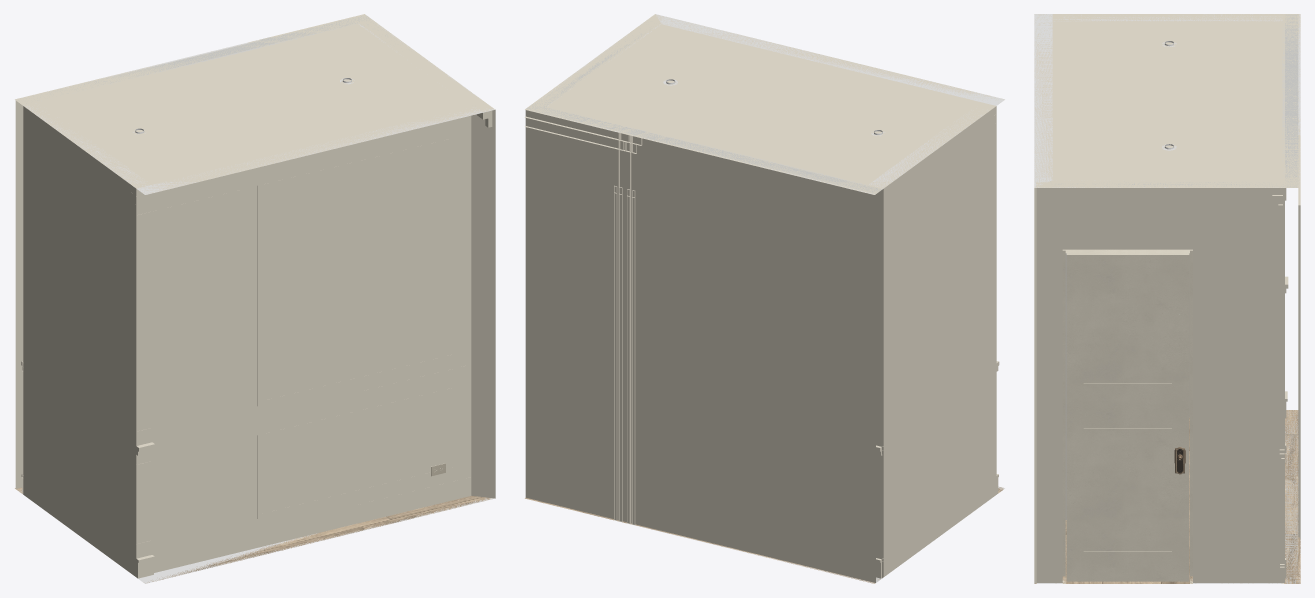
The model's file is upstairs-closet-east-626451d3eaa9.glb.
The picture shows the model from 3 angles, left to right: view 1: azimuth 30°, elevation 25°; view 2: azimuth 150°, elevation 25°; view 3: azimuth 270°, elevation 25°; orthographic projection.
Parts seen in each view (by area): view 1: upstairs-closet-east-6e269356ae8bfd70, upstairs-closet-east-af27112094daa34f, upstairs-closet-east-9d91b47435c6fb33, upstairs-closet-east-eb02897c2e79e2b1, upstairs-closet-east-1e72e6a7b41a2abd, upstairs-closet-east-23111371382874c8, upstairs-closet-east-eee6b1654fa02f80, upstairs-closet-east-2575515a05775d9e, upstairs-closet-east-414385708a06acff, upstairs-closet-east-3b3c25625ac8bb9a, upstairs-closet-east-1e3385c37a14aaf6, upstairs-closet-east-a5ac74805be43788; view 2: upstairs-closet-east-eb02897c2e79e2b1, upstairs-closet-east-af27112094daa34f, upstairs-closet-east-9d91b47435c6fb33, upstairs-closet-east-6e269356ae8bfd70, upstairs-closet-east-64efeecf845bccca, upstairs-closet-east-4f926054fd5f2d50, upstairs-closet-east-ed88f5d795cf56b6, upstairs-closet-east-dacde169422abe77, upstairs-closet-east-d84e51967c6a028c, upstairs-closet-east-23111371382874c8, upstairs-closet-east-3b3c25625ac8bb9a, upstairs-closet-east-e2e3a4ca5a8c504a; view 3: upstairs-closet-east-95684fa6df9df9bf, upstairs-closet-east-9d91b47435c6fb33, upstairs-closet-east-c33a54857fb1d4db, upstairs-closet-east-eb02897c2e79e2b1, upstairs-closet-east-6e269356ae8bfd70, upstairs-closet-east-2575515a05775d9e, upstairs-closet-east-664af2d0241557dd, upstairs-closet-east-3b3c25625ac8bb9a, upstairs-closet-east-af27112094daa34f, upstairs-closet-east-e2e3a4ca5a8c504a, upstairs-closet-east-4f926054fd5f2d50, upstairs-closet-east-23111371382874c8 (+1 smaller).
Part boxes in pixels (x1,y1,x2,y2): upstairs-closet-east-6e269356ae8bfd70: (136,107,495,583); upstairs-closet-east-af27112094daa34f: (23,105,147,576); upstairs-closet-east-9d91b47435c6fb33: (15,14,494,194); upstairs-closet-east-eb02897c2e79e2b1: (15,15,371,493); upstairs-closet-east-1e72e6a7b41a2abd: (257,137,456,406); upstairs-closet-east-23111371382874c8: (132,115,471,205); upstairs-closet-east-eee6b1654fa02f80: (257,387,456,518); upstairs-closet-east-2575515a05775d9e: (15,487,491,582); upstairs-closet-east-414385708a06acff: (148,477,471,555); upstairs-closet-east-3b3c25625ac8bb9a: (362,20,492,127); upstairs-closet-east-1e3385c37a14aaf6: (143,364,471,444); upstairs-closet-east-a5ac74805be43788: (136,189,243,435); upstairs-closet-east-eb02897c2e79e2b1: (525,104,883,583); upstairs-closet-east-af27112094daa34f: (869,106,996,576); upstairs-closet-east-9d91b47435c6fb33: (525,14,1004,194); upstairs-closet-east-6e269356ae8bfd70: (655,14,1004,490); upstairs-closet-east-64efeecf845bccca: (618,132,631,523); upstairs-closet-east-4f926054fd5f2d50: (614,185,617,520); upstairs-closet-east-ed88f5d795cf56b6: (619,187,622,522); upstairs-closet-east-dacde169422abe77: (632,190,635,525); upstairs-closet-east-d84e51967c6a028c: (627,189,629,523); upstairs-closet-east-23111371382874c8: (657,27,995,115); upstairs-closet-east-3b3c25625ac8bb9a: (535,15,664,105); upstairs-closet-east-e2e3a4ca5a8c504a: (860,102,977,184); upstairs-closet-east-95684fa6df9df9bf: (1036,180,1283,583); upstairs-closet-east-9d91b47435c6fb33: (1034,14,1300,187); upstairs-closet-east-c33a54857fb1d4db: (1066,253,1189,581); upstairs-closet-east-eb02897c2e79e2b1: (1282,14,1300,583); upstairs-closet-east-6e269356ae8bfd70: (1034,14,1052,583); upstairs-closet-east-2575515a05775d9e: (1035,410,1300,583); upstairs-closet-east-664af2d0241557dd: (1062,249,1192,583); upstairs-closet-east-3b3c25625ac8bb9a: (1036,182,1284,186); upstairs-closet-east-af27112094daa34f: (1053,14,1282,417); upstairs-closet-east-e2e3a4ca5a8c504a: (1052,21,1282,26); upstairs-closet-east-4f926054fd5f2d50: (1299,205,1300,539); upstairs-closet-east-23111371382874c8: (1052,14,1063,165).
Size of the model in its own units: 2.73 by 2.91 by 1.77.
17 materials, 3 textured.
